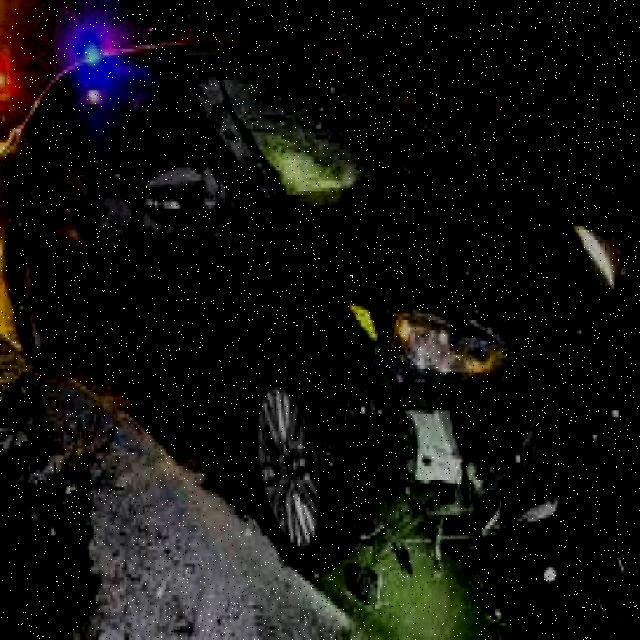car damage: (328, 307, 583, 573), (194, 54, 449, 221)
